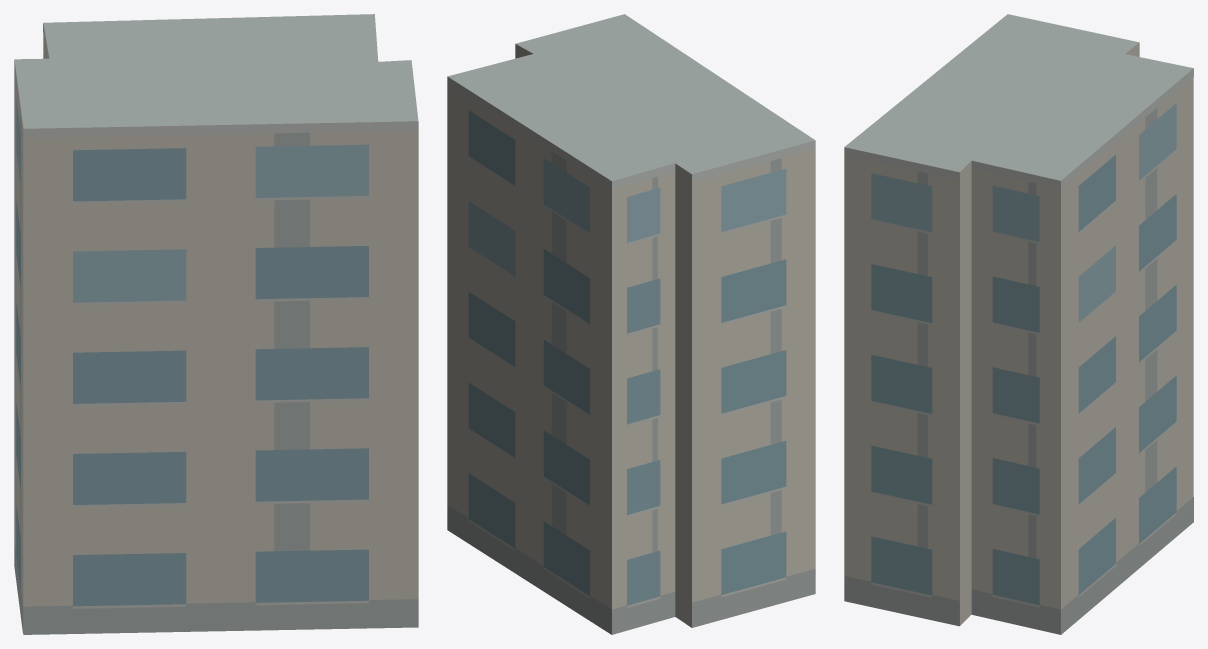
The model's file is survey-upis-32729607.glb.
3 renders of one model, left to right at view 1: azimuth 30°, elevation 25°; view 2: azimuth 150°, elevation 25°; view 3: azimuth 270°, elevation 25°, orthographic. The views are drawn at different scales.
Visible parts, largest first — view 1: survey-upis-32729607.tmp; view 2: survey-upis-32729607.tmp; view 3: survey-upis-32729607.tmp.
Part boxes in pixels (x1=…): survey-upis-32729607.tmp: x1=14, y1=14, x2=418, y2=634; survey-upis-32729607.tmp: x1=447, y1=14, x2=815, y2=634; survey-upis-32729607.tmp: x1=844, y1=14, x2=1193, y2=634.
Size of the model in its own units: 10.41 by 13.2 by 9.22.
